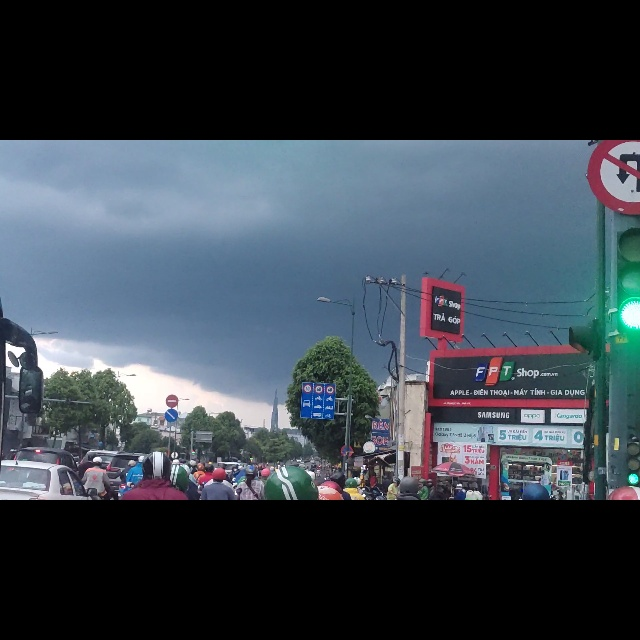bien_cam: (589, 1, 640, 136), (301, 430, 336, 496), (165, 479, 179, 503), (166, 452, 179, 476)
